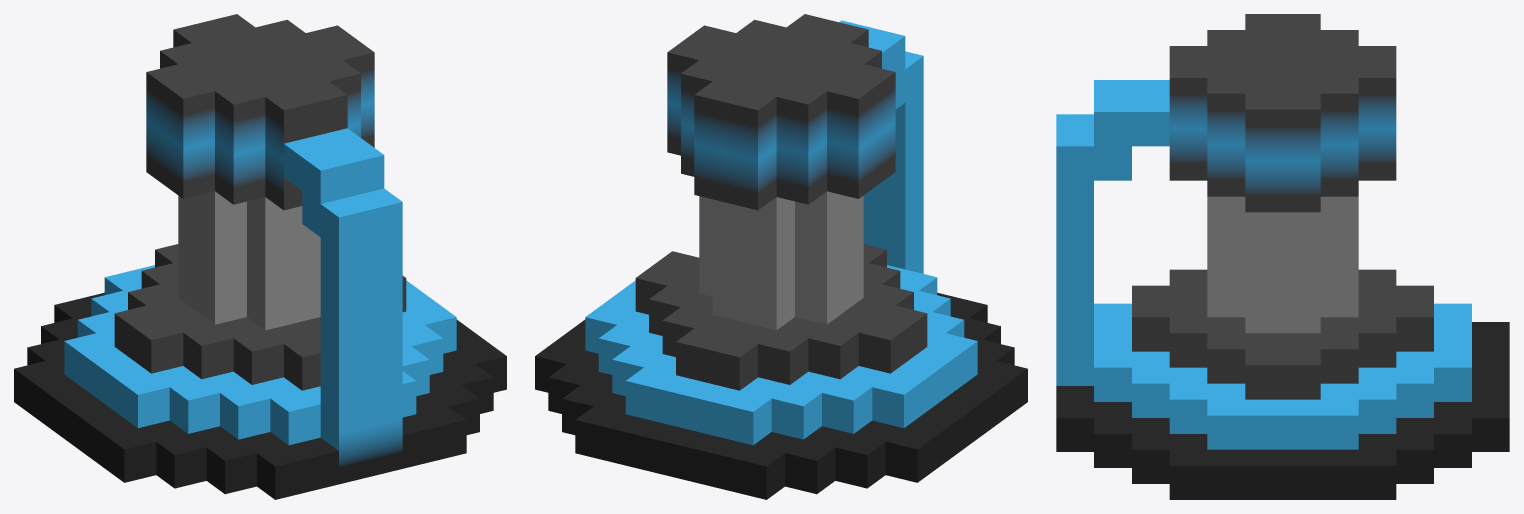
File: Ice_Base.dae
3 renders of one model, left to right at view 1: azimuth 30°, elevation 25°; view 2: azimuth 150°, elevation 25°; view 3: azimuth 270°, elevation 25°, orthographic. The views are drawn at different scales.
Parts seen in each view (by area): view 1: Matrix_5; view 2: Matrix_5; view 3: Matrix_5.
Part boxes in pixels (box(x1,y1,x2,y2)): Matrix_5: box(14, 14, 506, 499); Matrix_5: box(535, 14, 1027, 499); Matrix_5: box(1056, 14, 1509, 499).
Size of the model in its own units: 12 by 10 by 12.
